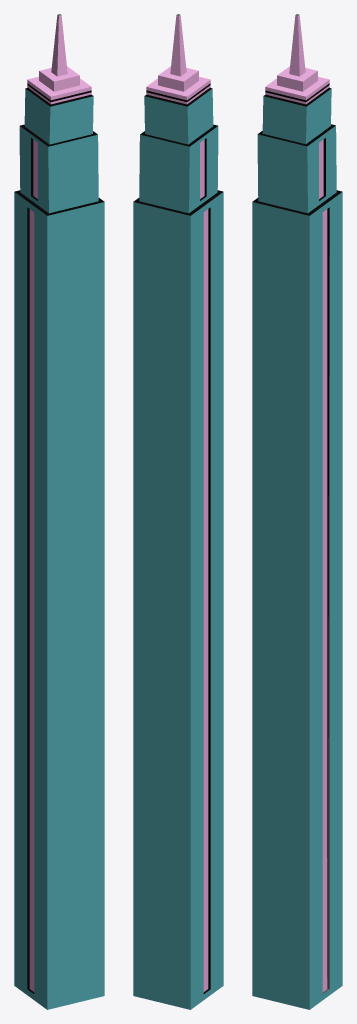
The model's file is SM_Environment_Buildings_Tall_04.fbx.
3 renders of one model, left to right at view 1: azimuth 30°, elevation 25°; view 2: azimuth 150°, elevation 25°; view 3: azimuth 330°, elevation 25°, orthographic.
Visible parts, largest first — view 1: SM_Environment_Buildings_Tall_04; view 2: SM_Environment_Buildings_Tall_04; view 3: SM_Environment_Buildings_Tall_04.
Boxes of the visible parts, bbox=[...] form: SM_Environment_Buildings_Tall_04: bbox=[14, 14, 104, 1009]; SM_Environment_Buildings_Tall_04: bbox=[133, 14, 223, 1009]; SM_Environment_Buildings_Tall_04: bbox=[252, 14, 342, 1009].
Size of the model in its own units: 6 by 97.45 by 6.
